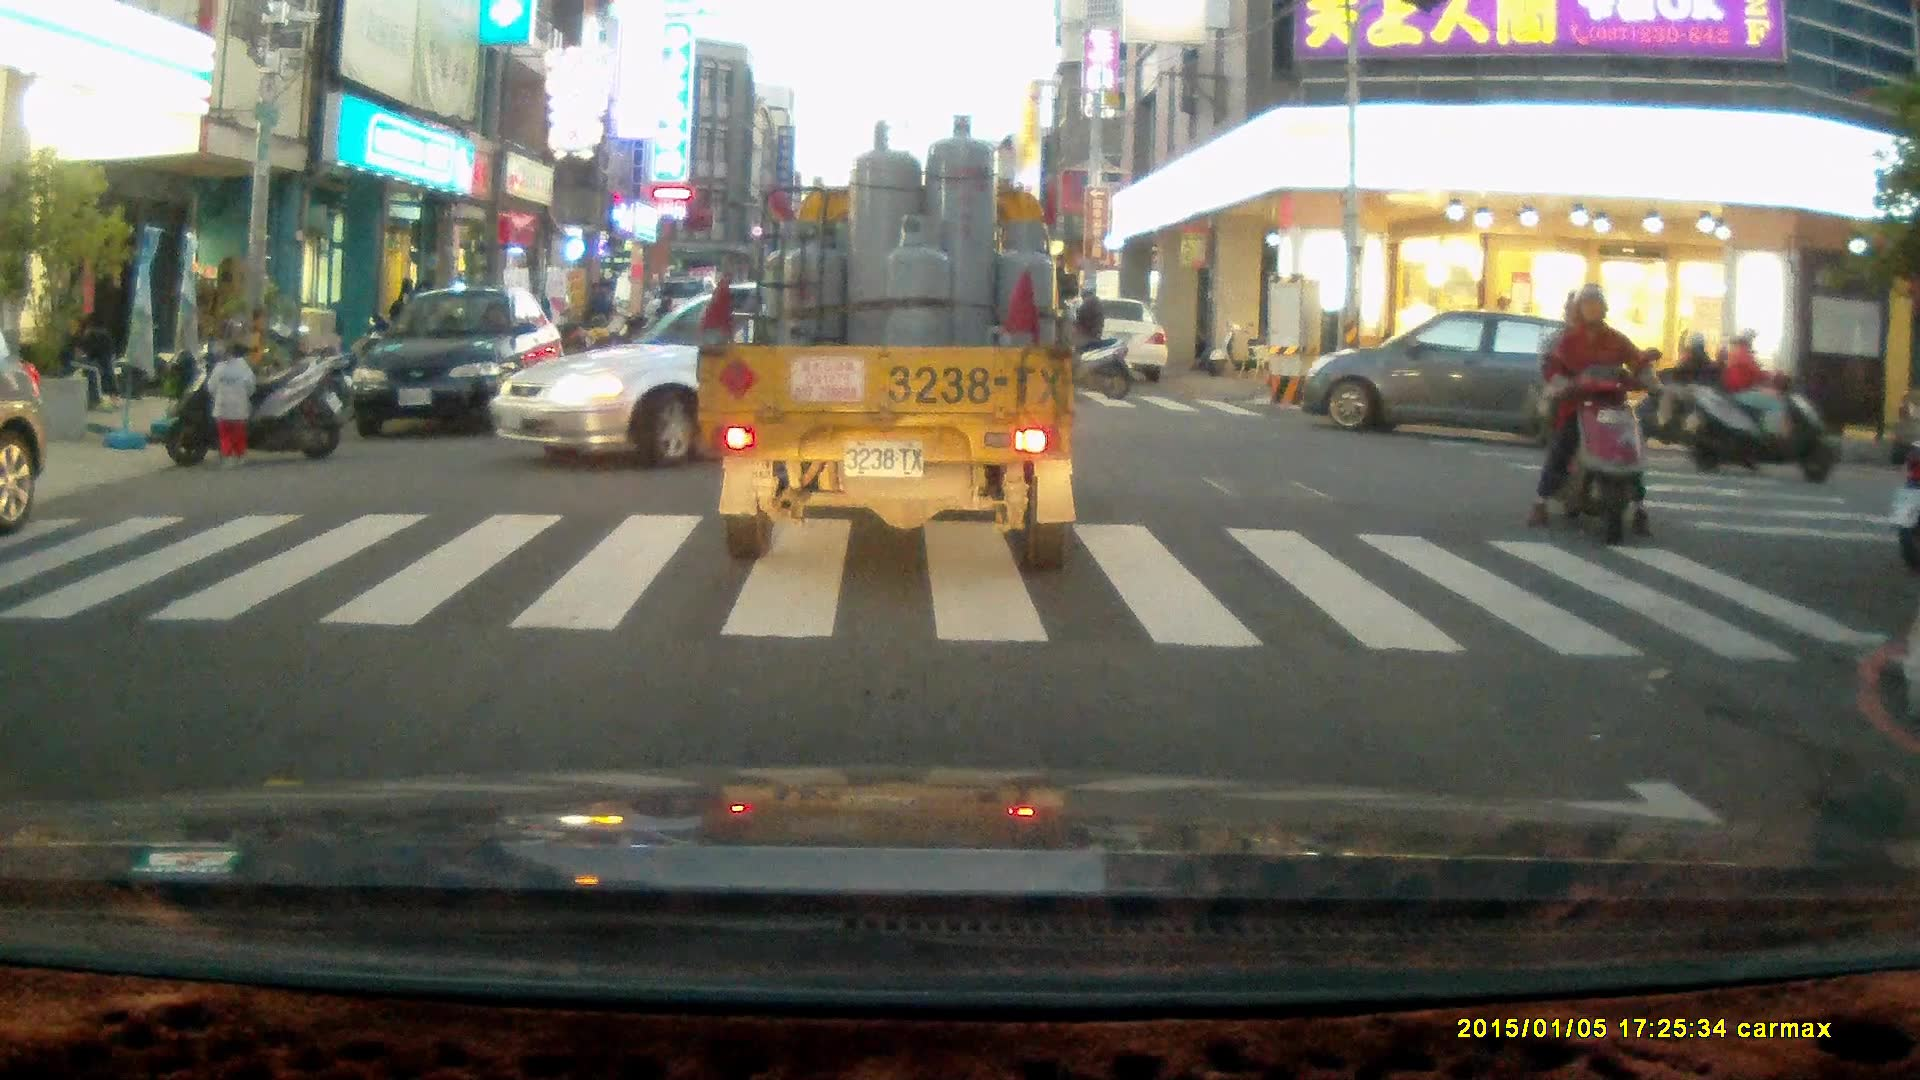pedestrian: (202, 337, 258, 467), (590, 277, 617, 339)
rider: (1523, 286, 1652, 546), (1689, 319, 1832, 480), (1627, 332, 1741, 454), (1039, 281, 1134, 402)
vehicle: (700, 115, 1079, 572), (488, 281, 1011, 461), (1288, 309, 1621, 461), (343, 286, 567, 440), (1068, 297, 1171, 383)
